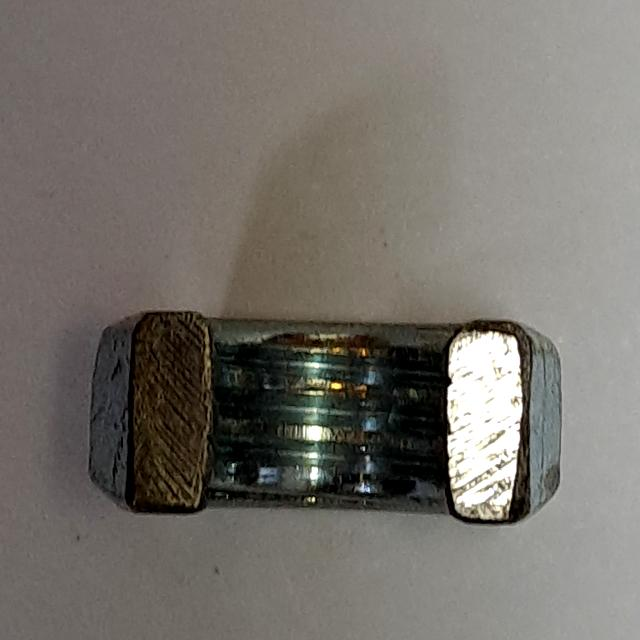Side-Fracture: (79, 290, 581, 539)
